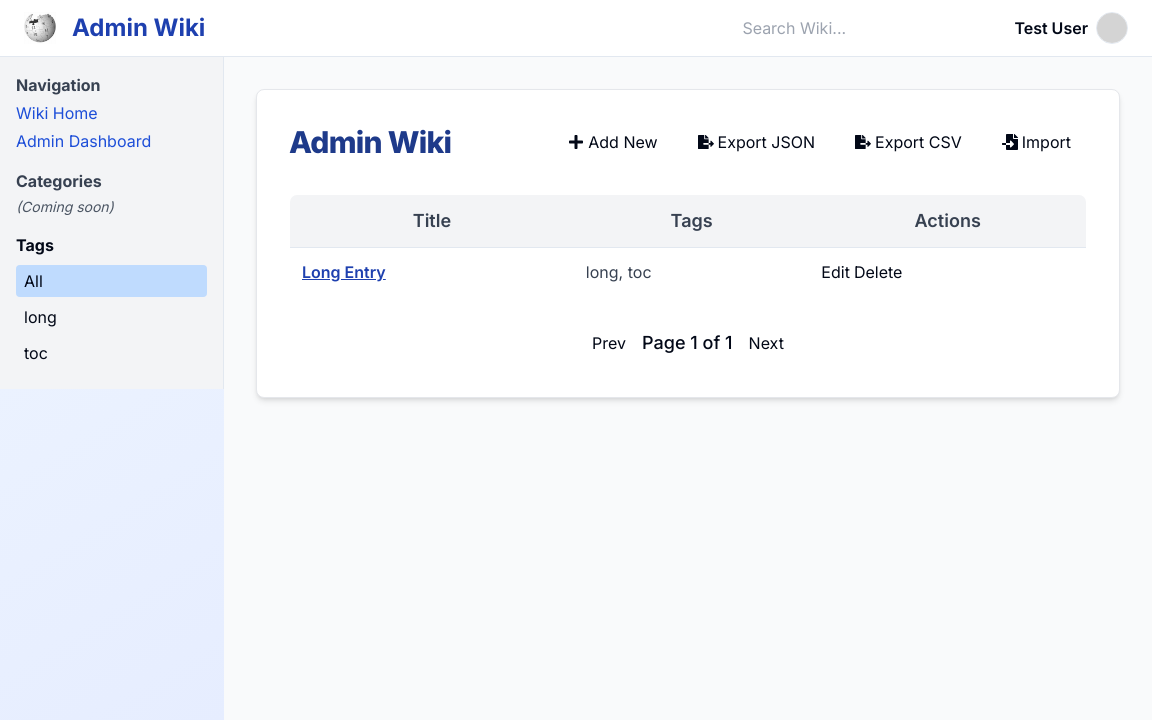
AdminWiki › shows Table of Contents for long entries with headings
Expand the entry
Click the text "Long Entry": [432, 272] box [290,248,574,296]
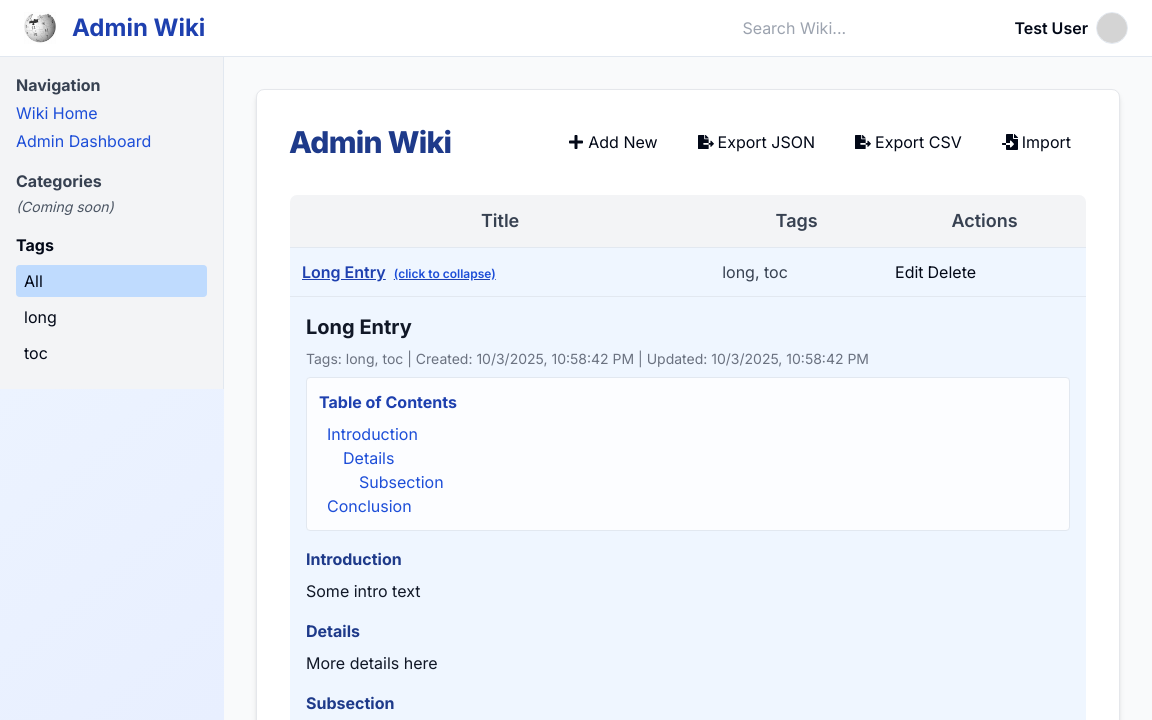
Now the text "Table of Contents" is shown, box [319,392,457,412]
Now the heading "Details" is shown, box [306,621,360,641]
